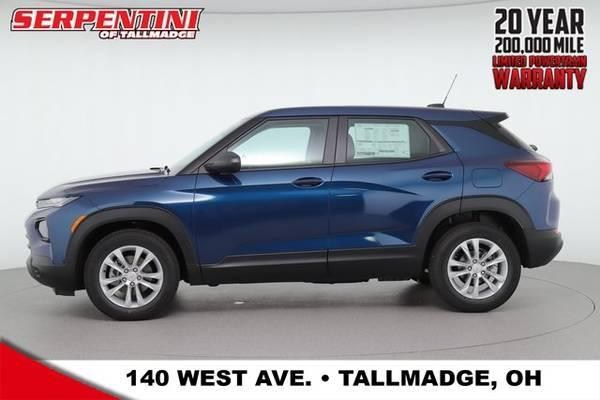Front_Bumper: (24, 198, 99, 298)
Front_Fender: (62, 176, 201, 286)
Front_Left_Door: (190, 164, 332, 275)
Front_Left_Window: (193, 115, 341, 174)
Left_Headlight: (35, 194, 81, 208)
Left_Taillight: (501, 158, 550, 179)
Rear_Bumper: (501, 177, 560, 272)
Rear_Fender: (431, 123, 548, 209)
Rear_Left_Door: (327, 153, 465, 274)
Rear_Left_Window: (334, 115, 457, 163)
Roof: (177, 105, 527, 172)
Wheel: (425, 219, 521, 313), (84, 229, 179, 322)
